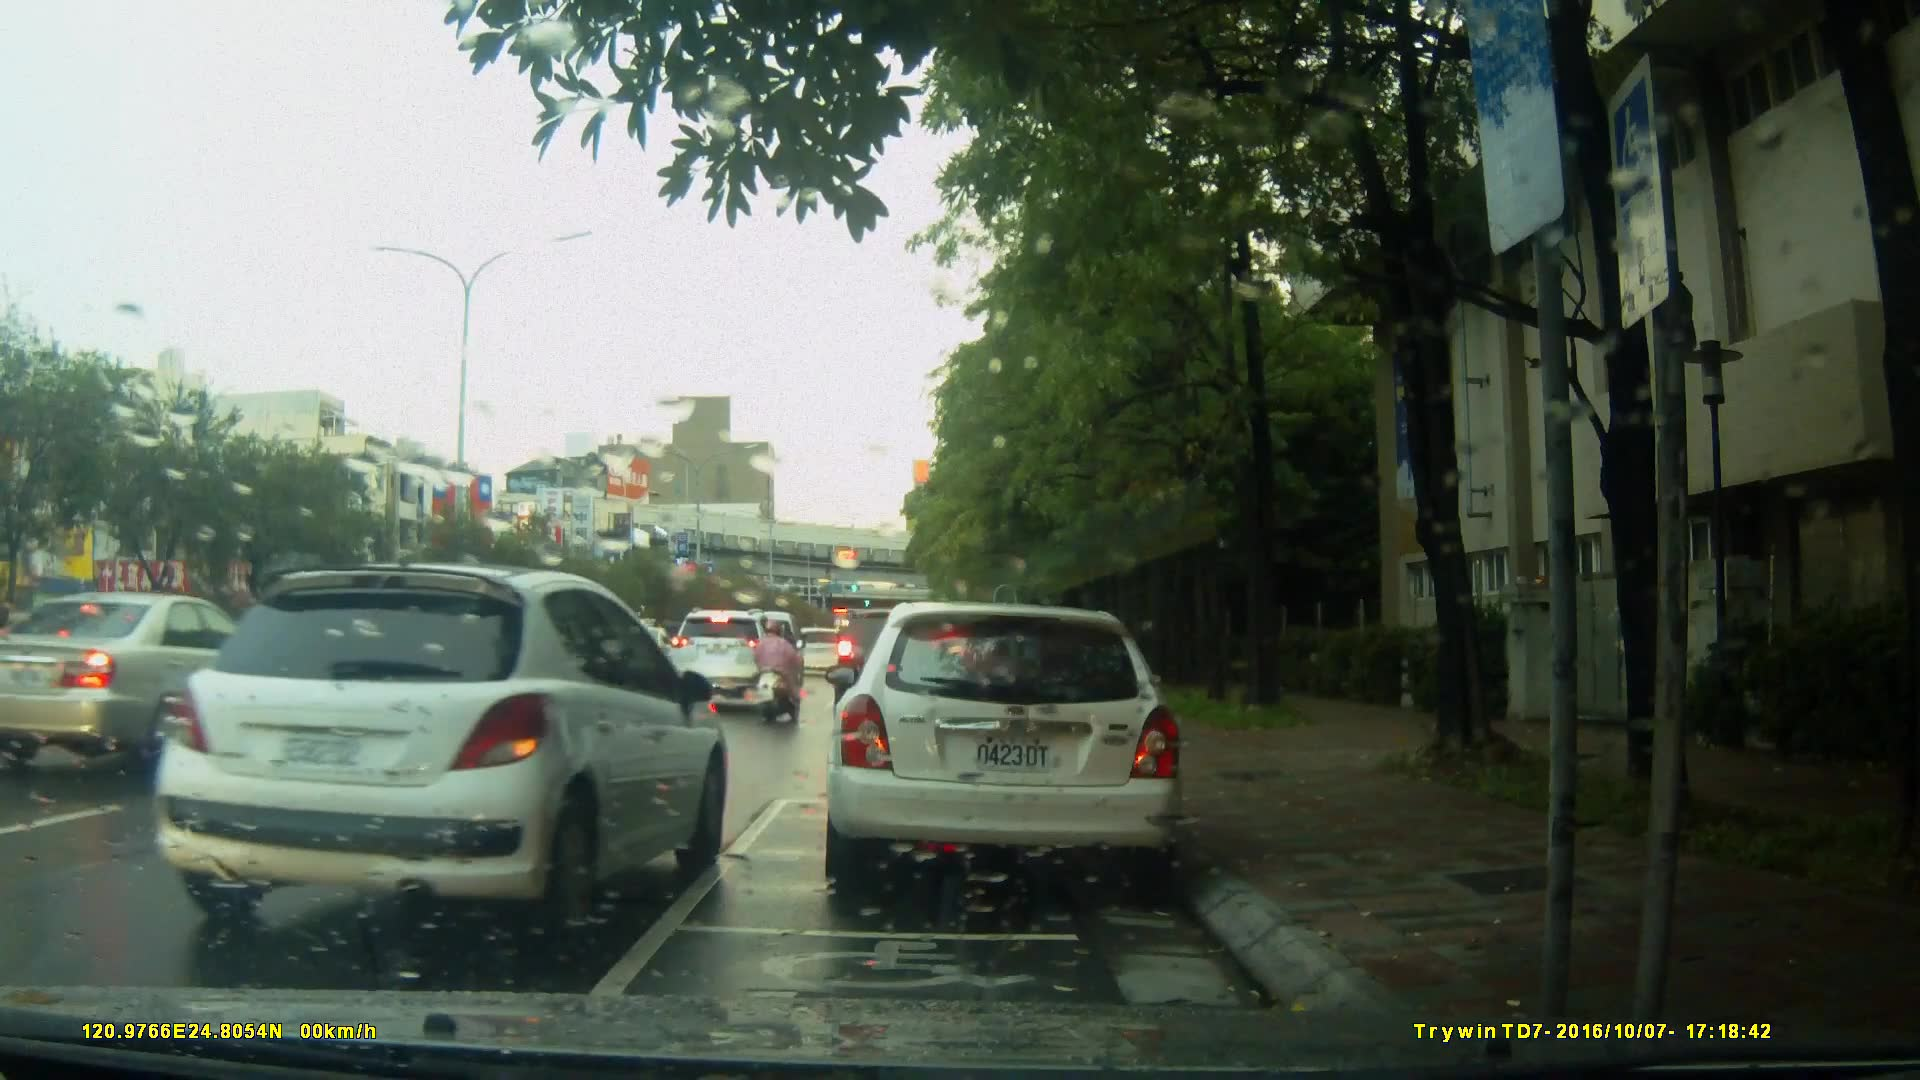rider: (747, 612, 797, 729)
vehicle: (147, 560, 731, 946), (820, 602, 1188, 898), (5, 590, 328, 774), (668, 609, 790, 713)
